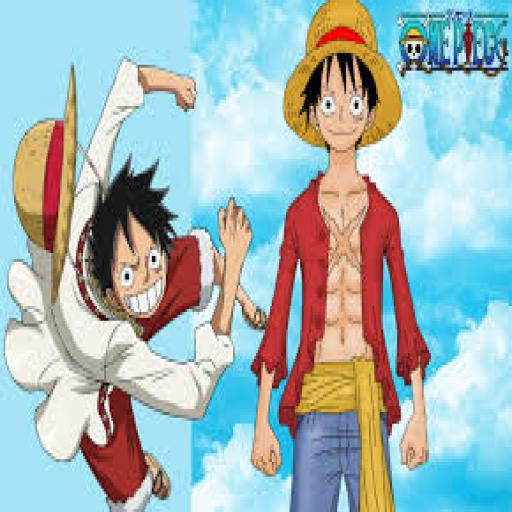luffy: (5, 59, 249, 509), (238, 0, 429, 509)
